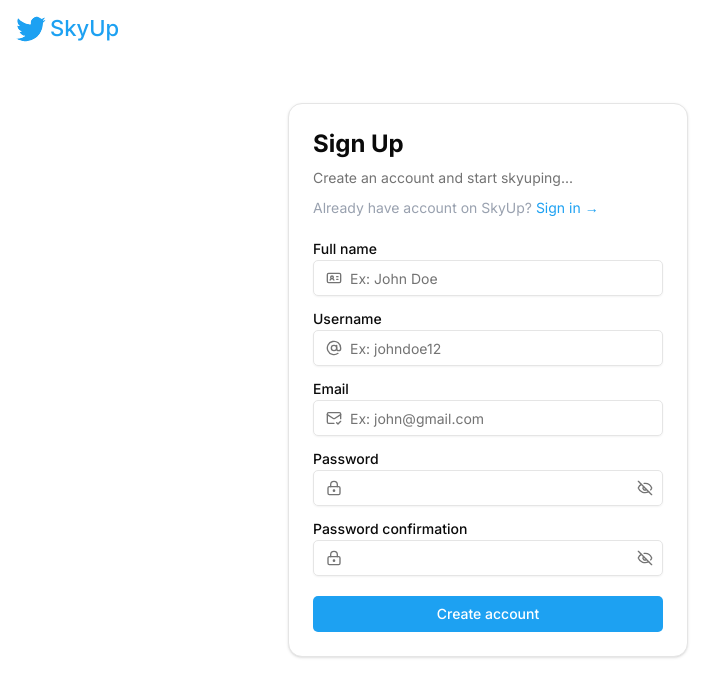
Test: SignUp page › shows email error for invalid email
The width and height of the screenshot is (705, 686).
Type "not-an-email" into the field labelled "Email" at point(502, 418), box top-left (342, 400), bottom-right (662, 436)
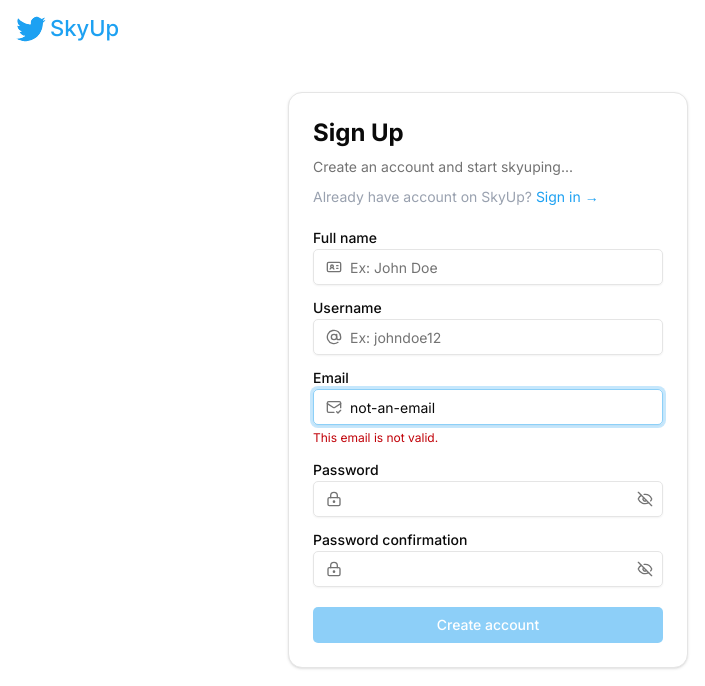
Expected: the text "This email is not valid." is shown, top-left (313, 430), bottom-right (438, 445)
